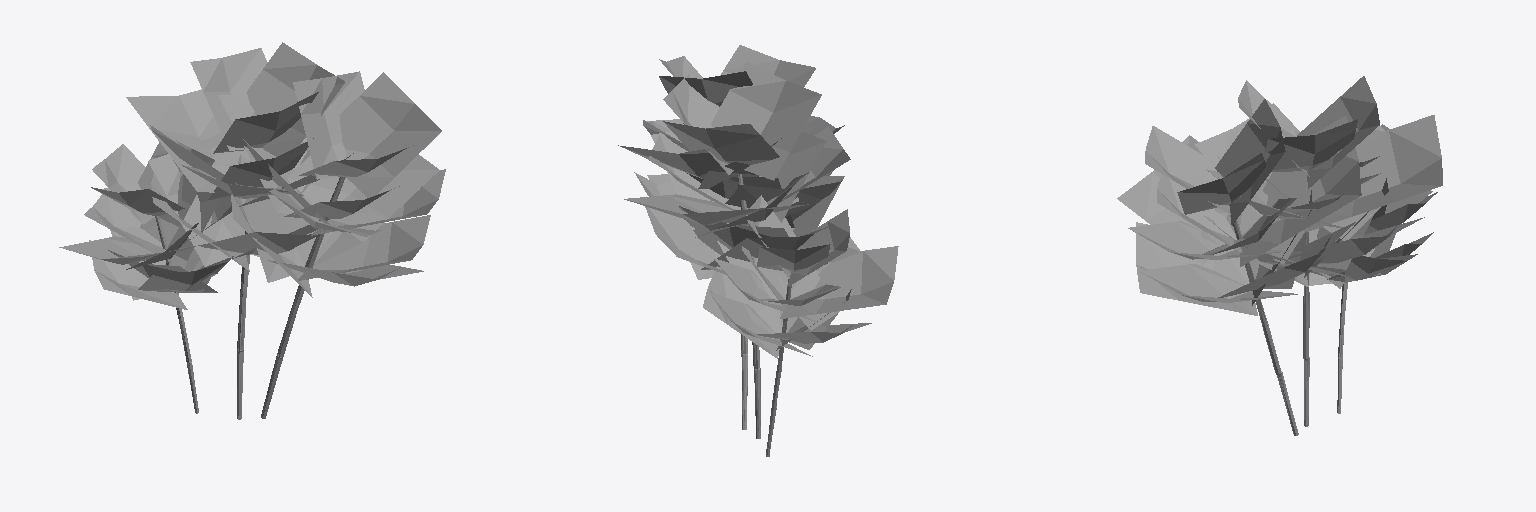
The model's file is Bamboo01_blender.obj.
3 renders of one model, left to right at view 1: azimuth 30°, elevation 25°; view 2: azimuth 150°, elevation 25°; view 3: azimuth 270°, elevation 25°, orthographic.
Parts seen in each view (by area): view 1: BambooOne80, BambooOne128, BambooOne256; view 2: BambooOne80, BambooOne128, BambooOne256; view 3: BambooOne80, BambooOne128, BambooOne256.
Boxes of the visible parts, x1=… form: BambooOne80: x1=59, y1=42, x2=445, y2=415; BambooOne128: x1=64, y1=49, x2=439, y2=418; BambooOne256: x1=60, y1=50, x2=439, y2=419; BambooOne80: x1=618, y1=45, x2=898, y2=405; BambooOne128: x1=637, y1=57, x2=883, y2=453; BambooOne256: x1=620, y1=57, x2=881, y2=456; BambooOne80: x1=1117, y1=76, x2=1442, y2=428; BambooOne128: x1=1131, y1=84, x2=1429, y2=432; BambooOne256: x1=1132, y1=82, x2=1426, y2=435.
Bounding box in the file's own units: 14.83 × 15.47 × 13.29.